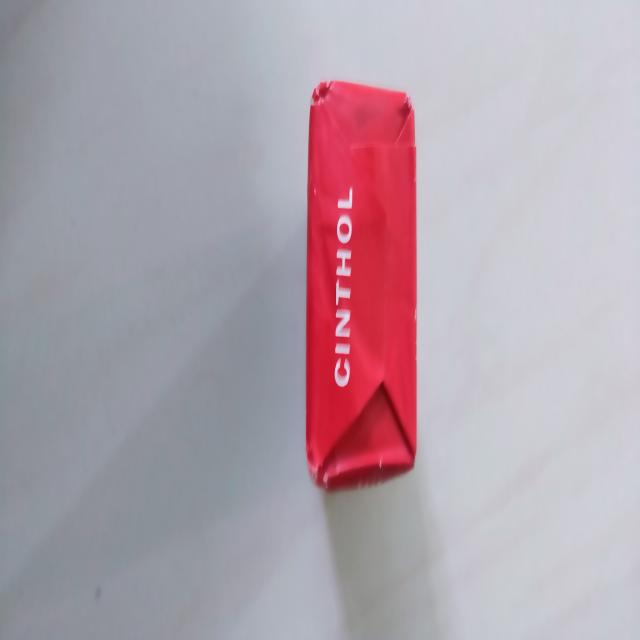soap: (308, 90, 420, 480)
